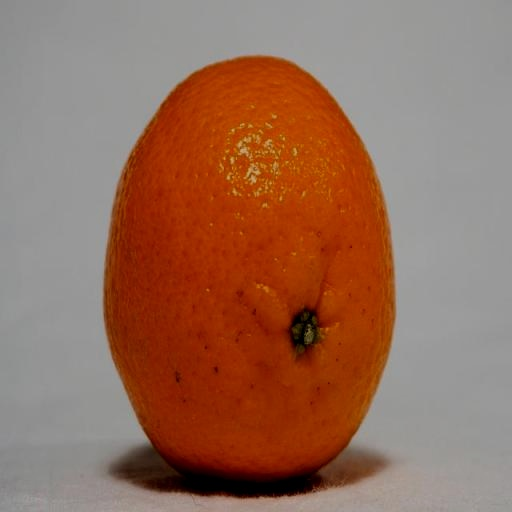fruit: (104, 58, 394, 484)
